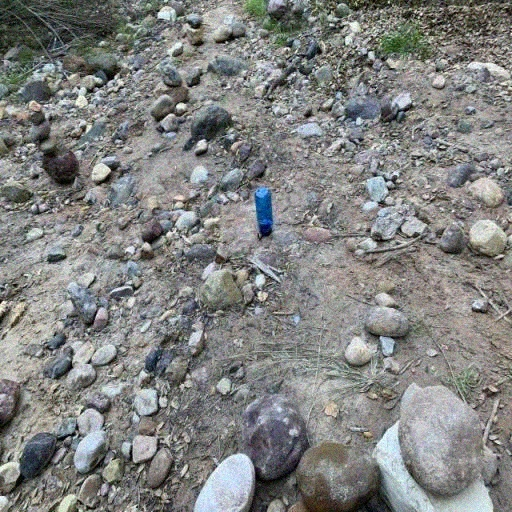bottle: (255, 186, 273, 240)
